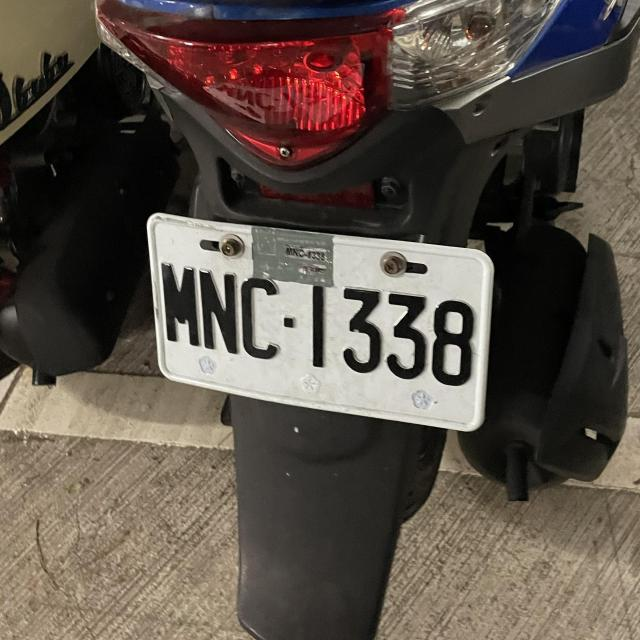W: (134, 215, 503, 431)
